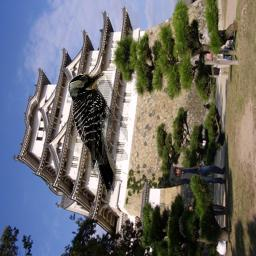Woodpecker: (67, 72, 128, 197)
